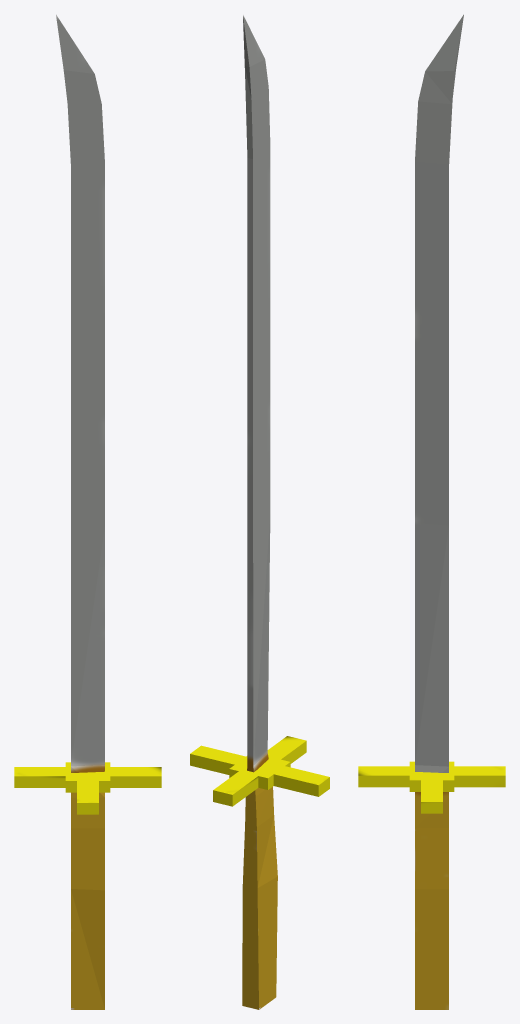
The model's file is hammer.obj.
The picture shows the model from 3 angles, left to right: view 1: azimuth 90°, elevation 25°; view 2: azimuth 150°, elevation 25°; view 3: azimuth 270°, elevation 25°; orthographic projection.
Visible parts, largest first — view 1: 立方体; view 2: 立方体; view 3: 立方体.
Part boxes in pixels (left/top/right/bottom): 立方体: left=14, top=14, right=161, bottom=1009; 立方体: left=190, top=15, right=329, bottom=1009; 立方体: left=358, top=14, right=505, bottom=1009.
Bounding box in the file's own units: 1.16 × 8.6 × 1.16.
1 material, 1 textured.
